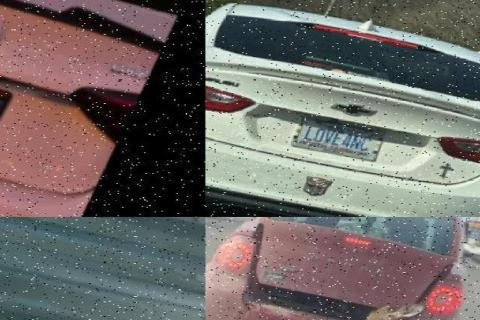LicensePlate: (0, 66, 58, 146), (292, 113, 389, 159), (86, 217, 188, 249)
